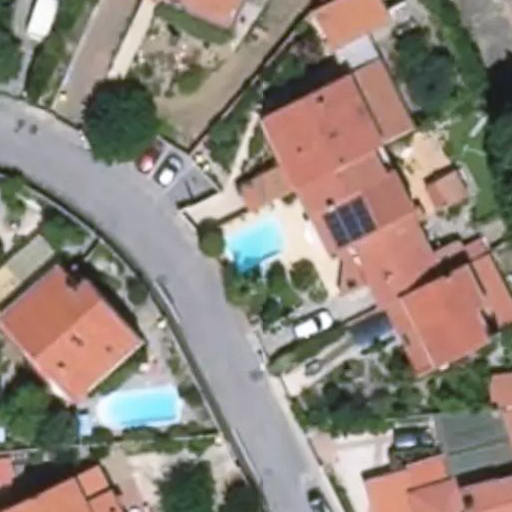pool: (219, 238, 290, 244)
